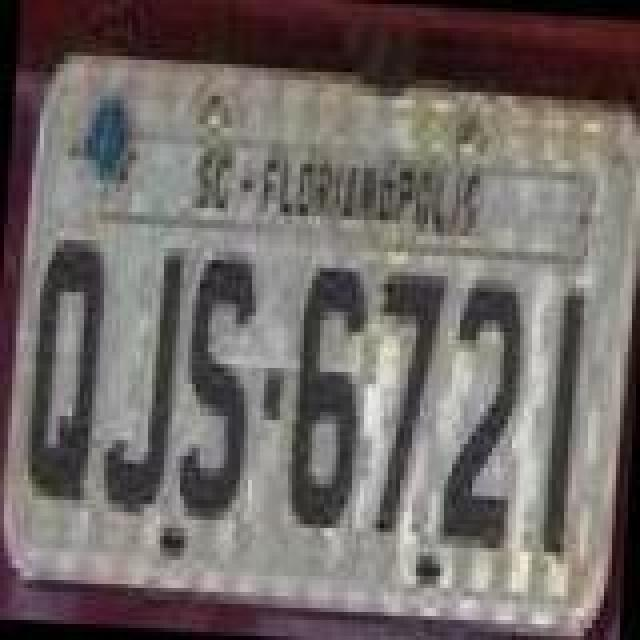1: (538, 286, 590, 562)
2: (440, 270, 536, 554)
6: (280, 258, 376, 534)
7: (366, 262, 450, 538)
J: (98, 238, 190, 514)
Q: (18, 230, 110, 506)
S: (170, 244, 262, 524)
